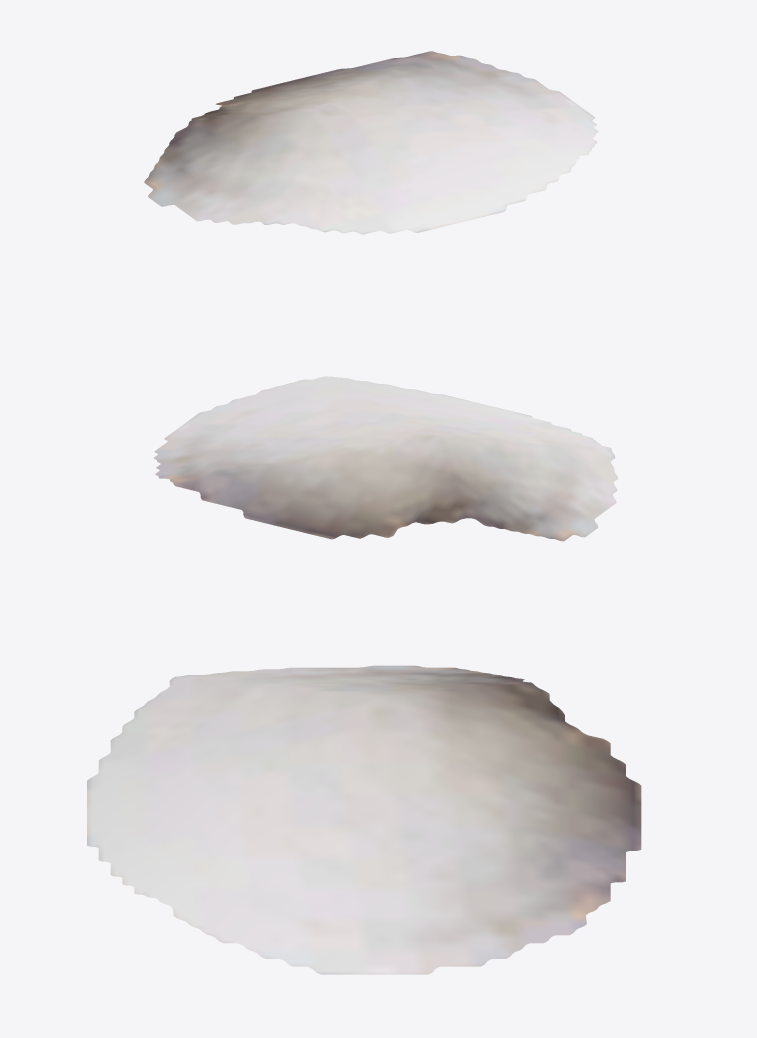
File: shor_seashell_clam_a1_l0.fbx
3 renders of one model, top to bottom at view 1: azimuth 30°, elevation 25°; view 2: azimuth 150°, elevation 25°; view 3: azimuth 270°, elevation 25°, orthographic. The views are drawn at different scales.
Visible parts, largest first — view 1: mesh_node; view 2: mesh_node; view 3: mesh_node.
Part boxes in pixels (<box>): mesh_node: <box>144,51,598,234</box>; mesh_node: <box>153,376,617,541</box>; mesh_node: <box>87,665,641,974</box>.
Size of the model in its own units: 0.0638 by 0.00782 by 0.054.
Materials: 1 (1 with a texture image).
